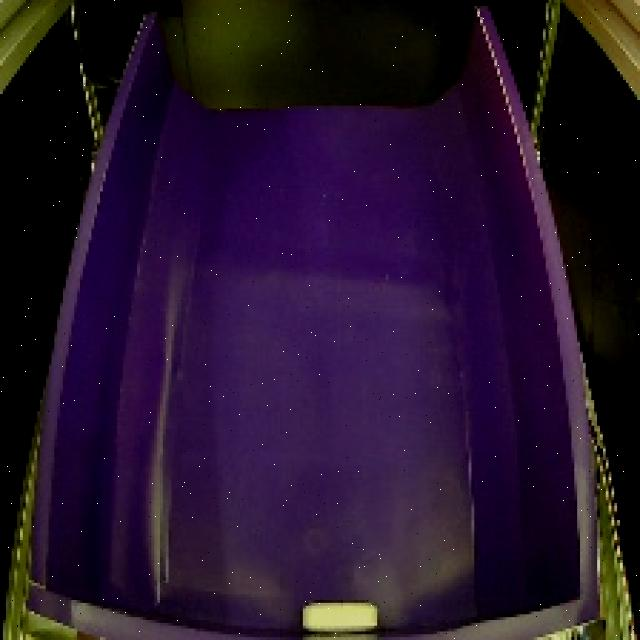small: (290, 588, 390, 639)
